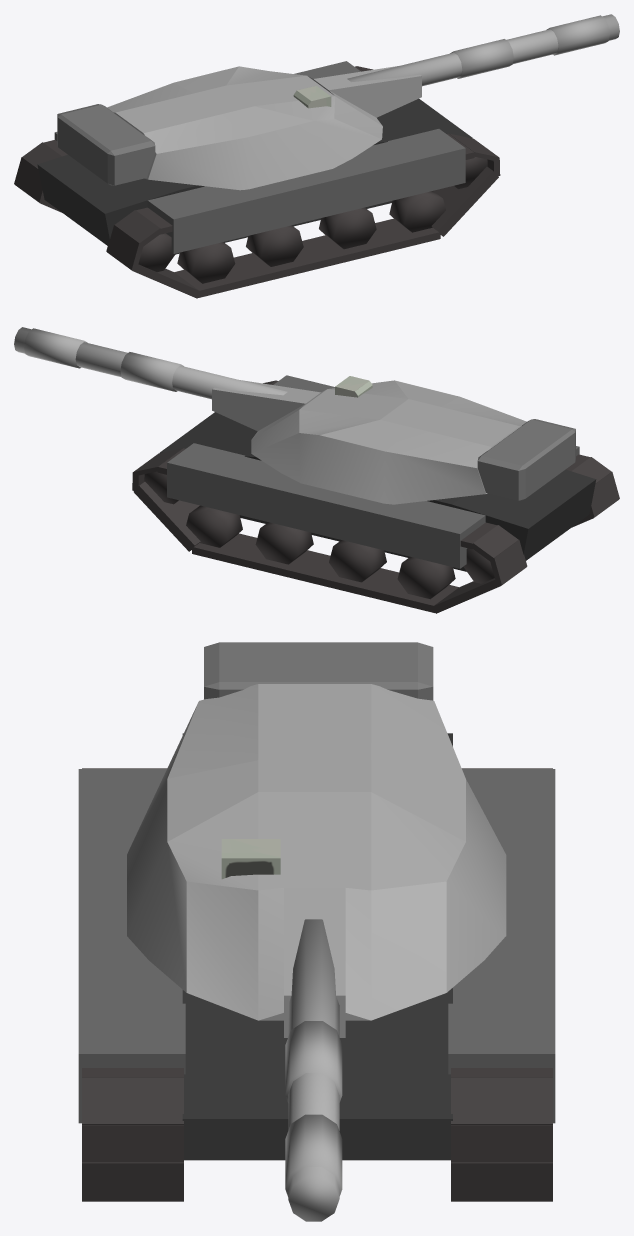
The model's file is TL_ark_fi.glb.
3 renders of one model, top to bottom at view 1: azimuth 30°, elevation 25°; view 2: azimuth 150°, elevation 25°; view 3: azimuth 270°, elevation 25°, orthographic. The views are drawn at different scales.
Visible parts, largest first — view 1: Cube.019, Cube.018, Cube, Cube.020, Cube.009, Cylinder, Cube.010, Cylinder.009, Cylinder.010, Cylinder.008, Cylinder.011, Cylinder.012 (+12 smaller); view 2: Cube.019, Cube.017, Cube, Cube.020, Cube.001, Cylinder, Cylinder.001, Cylinder.006, Cylinder.007, Cube.002, Cylinder.002, Cylinder.012 (+12 smaller); view 3: Cube.019, Cube, Cube.017, Cube.018, Cube.020, Cylinder, Cube.012, Cube.004, Cube.002, Cube.010, Cube.003, Cube.011 (+5 smaller).
Part boxes in pixels (x1,y1,x2,y2): Cube.019: [107, 65, 421, 190]; Cube.018: [147, 129, 465, 253]; Cube: [37, 98, 472, 254]; Cube.020: [57, 104, 155, 185]; Cube.009: [174, 218, 440, 297]; Cylinder: [347, 14, 619, 86]; Cube.010: [431, 166, 498, 236]; Cylinder.009: [177, 242, 235, 283]; Cylinder.010: [319, 207, 376, 249]; Cylinder.008: [246, 225, 303, 266]; Cylinder.011: [389, 191, 445, 232]; Cylinder.012: [450, 39, 513, 78]; Cube.019: [212, 380, 526, 504]; Cube.017: [167, 443, 485, 568]; Cube: [160, 412, 596, 571]; Cube.020: [477, 419, 575, 500]; Cube.001: [192, 533, 458, 612]; Cylinder: [14, 327, 287, 399]; Cylinder.001: [255, 522, 313, 564]; Cylinder.006: [329, 540, 386, 582]; Cylinder.007: [397, 557, 455, 599]; Cube.002: [133, 482, 200, 551]; Cylinder.002: [186, 505, 242, 547]; Cylinder.012: [120, 352, 183, 391]; Cube.019: [127, 684, 506, 1037]; Cube: [182, 733, 452, 1160]; Cube.017: [448, 769, 555, 1123]; Cube.018: [78, 769, 185, 1123]; Cube.020: [204, 642, 433, 700]; Cylinder: [288, 919, 339, 1221]; Cube.012: [82, 1077, 183, 1124]; Cube.004: [451, 1077, 552, 1124]; Cube.002: [451, 1162, 552, 1201]; Cube.010: [82, 1162, 183, 1201]; Cube.003: [451, 1124, 552, 1162]; Cube.011: [82, 1124, 183, 1162].
Size of the model in its own units: 13.42 by 3.21 by 5.11.
Materials: 5 (1 with a texture image).
